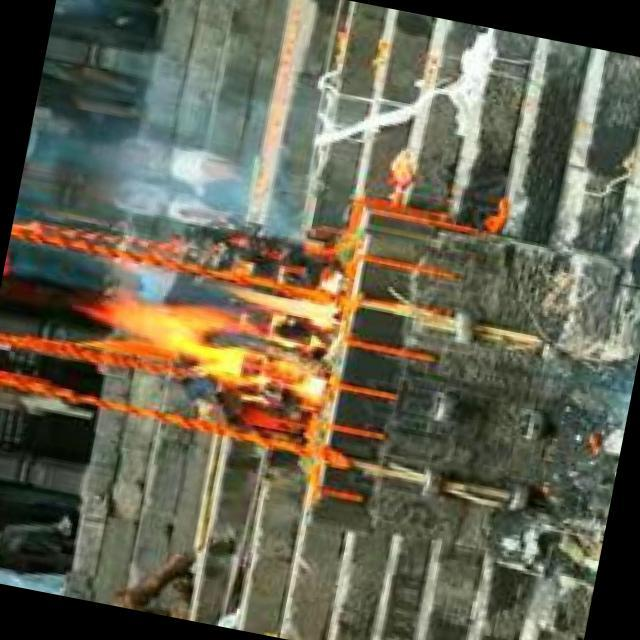Fire: (89, 249, 346, 407)
